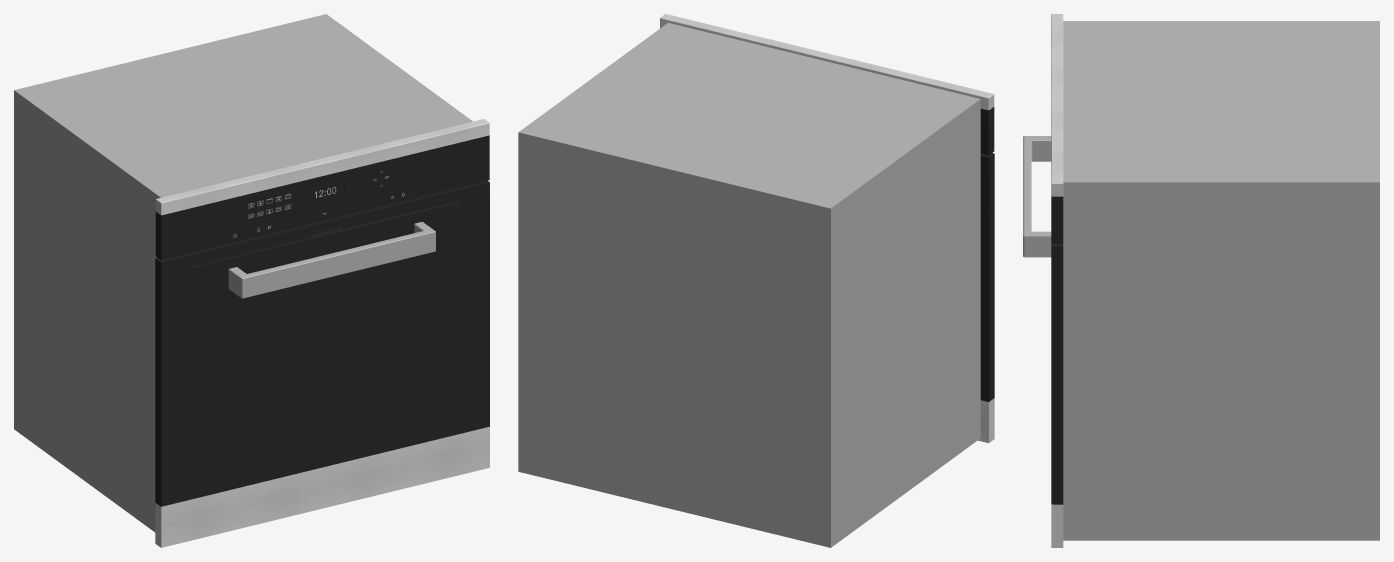
The model's file is SEB000048.glb.
3 views of the same model, side by side, from view 1: azimuth 30°, elevation 25°; view 2: azimuth 150°, elevation 25°; view 3: azimuth 270°, elevation 25° (orthographic). The views are drawn at different scales.
Parts seen in each view (by area): view 1: BP_SEB000048; view 2: BP_SEB000048; view 3: BP_SEB000048.
Part boxes in pixels (x1,y1,x2,y2): BP_SEB000048: (14,14,489,547); BP_SEB000048: (518,14,994,547); BP_SEB000048: (1023,14,1379,547).
Size of the model in its own units: 0.595 by 0.5963 by 0.5288.
Materials: 3 (2 with a texture image).
